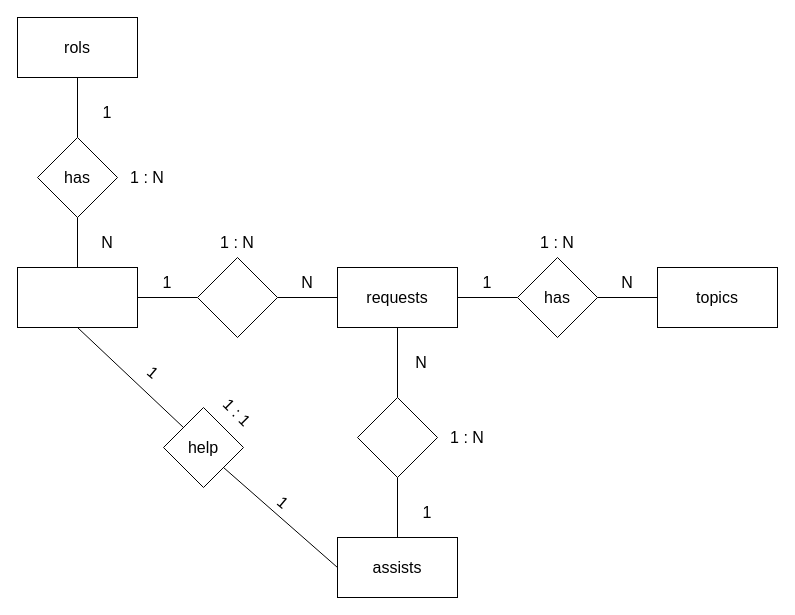
This 795x615 diagram has some shape labels left out. Each missing label, with the centre of its shape:
"ask" belongs at point 237,297.
"need" belongs at point 397,437.
"users" belongs at point 77,297.
